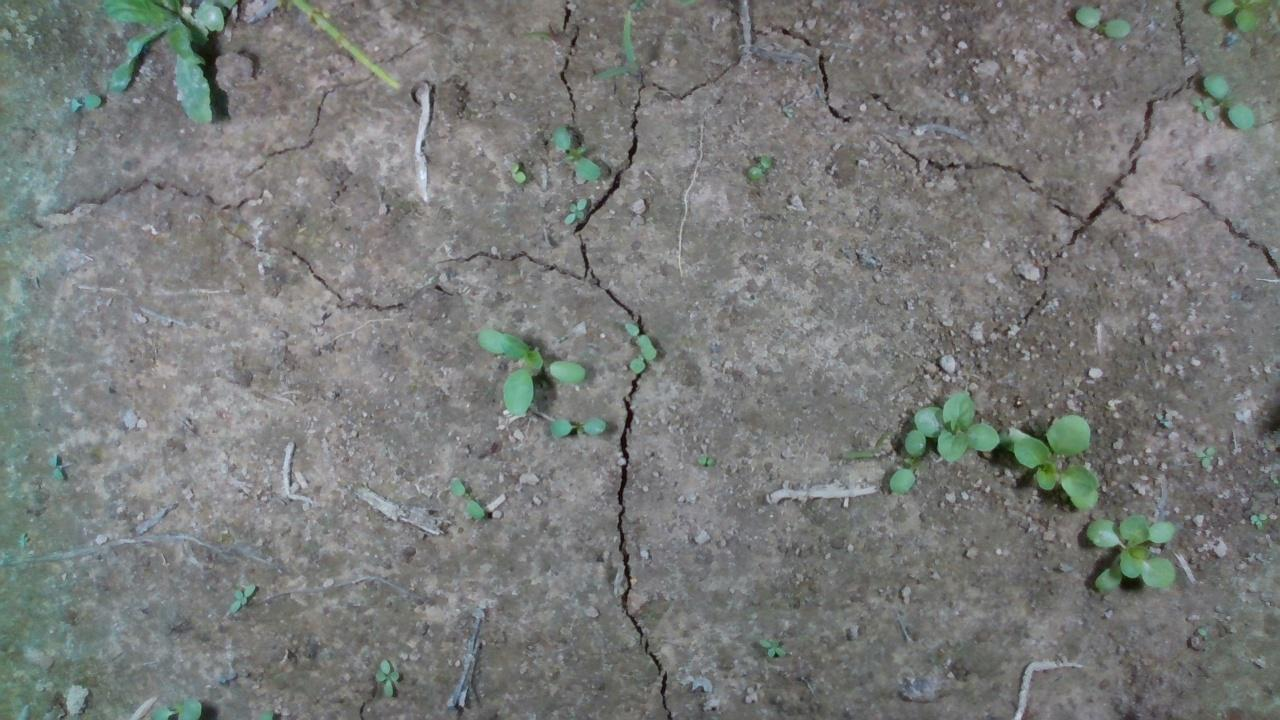weed: (1202, 70, 1257, 130), (547, 406, 606, 441), (1074, 6, 1134, 37), (1206, 0, 1261, 31), (740, 143, 774, 184), (557, 192, 592, 231), (371, 657, 398, 695), (690, 449, 722, 475), (502, 158, 530, 187), (1188, 96, 1221, 120), (1191, 443, 1219, 466)
